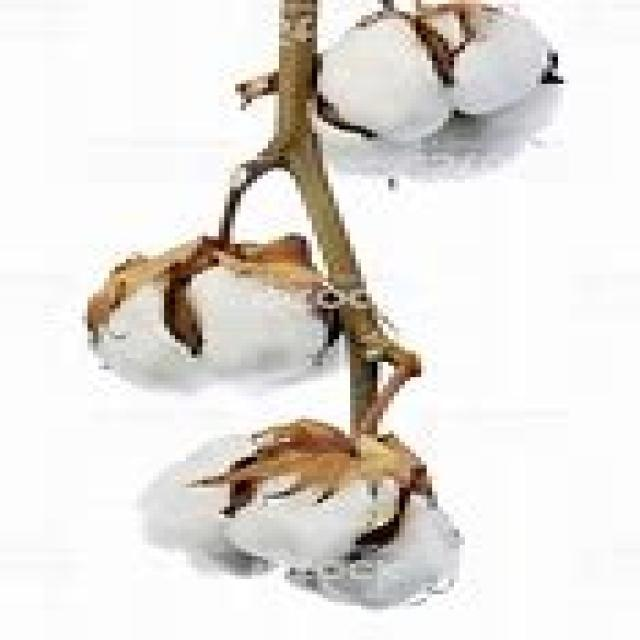Matured Cotton Boll: (127, 425, 480, 621), (80, 229, 373, 401), (312, 2, 572, 189)
